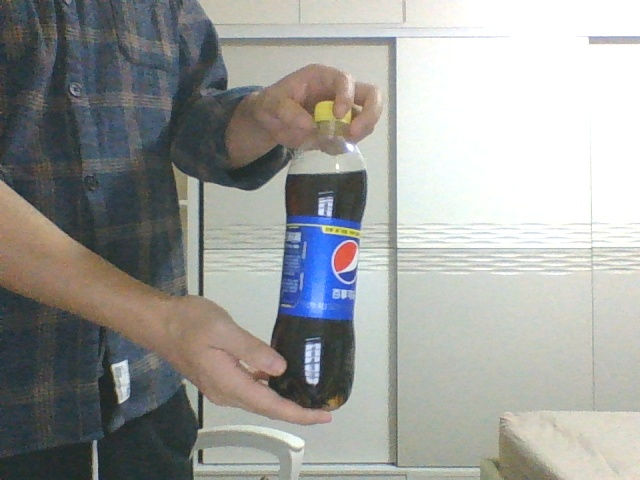Cola: (268, 98, 367, 410)
